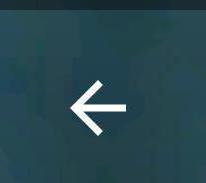ImgButton: (1, 1, 205, 182)
